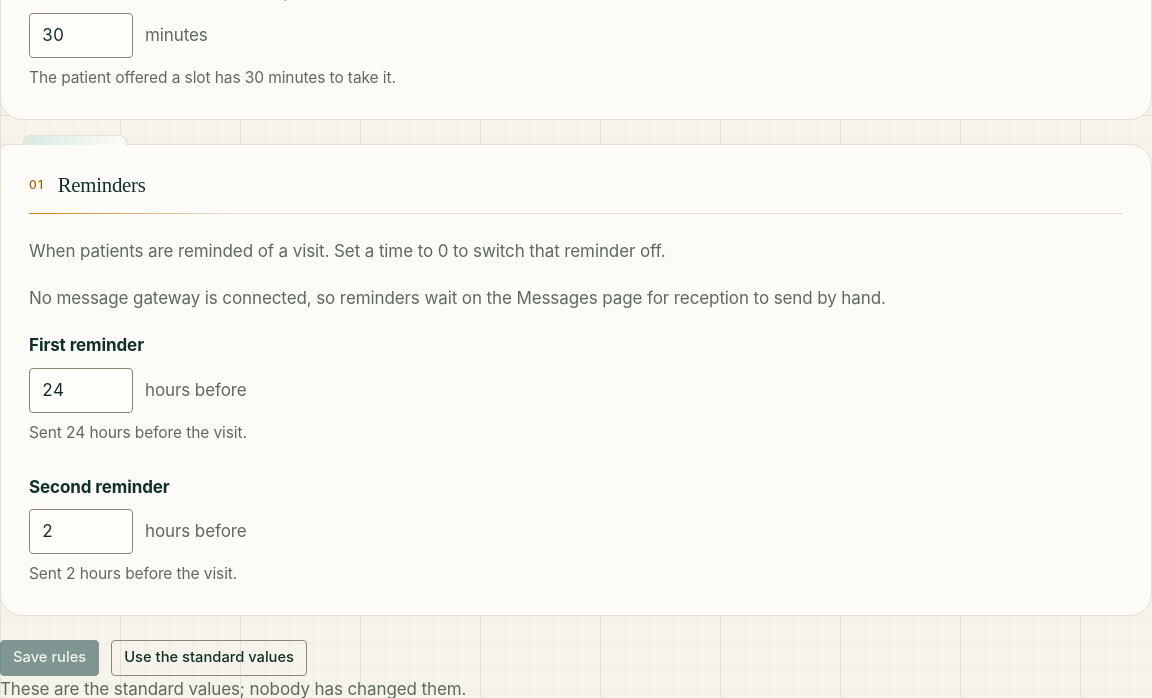
Test case: the clinic's rules › offers the standard values back
The image size is (1152, 698).
(page scrolled)
What coordinates should you click on to do the following:
click the button "Use the standard values"
I would click on:
 (209, 658)
Its box is top-left (111, 640), bottom-right (307, 676).
(page scrolled)
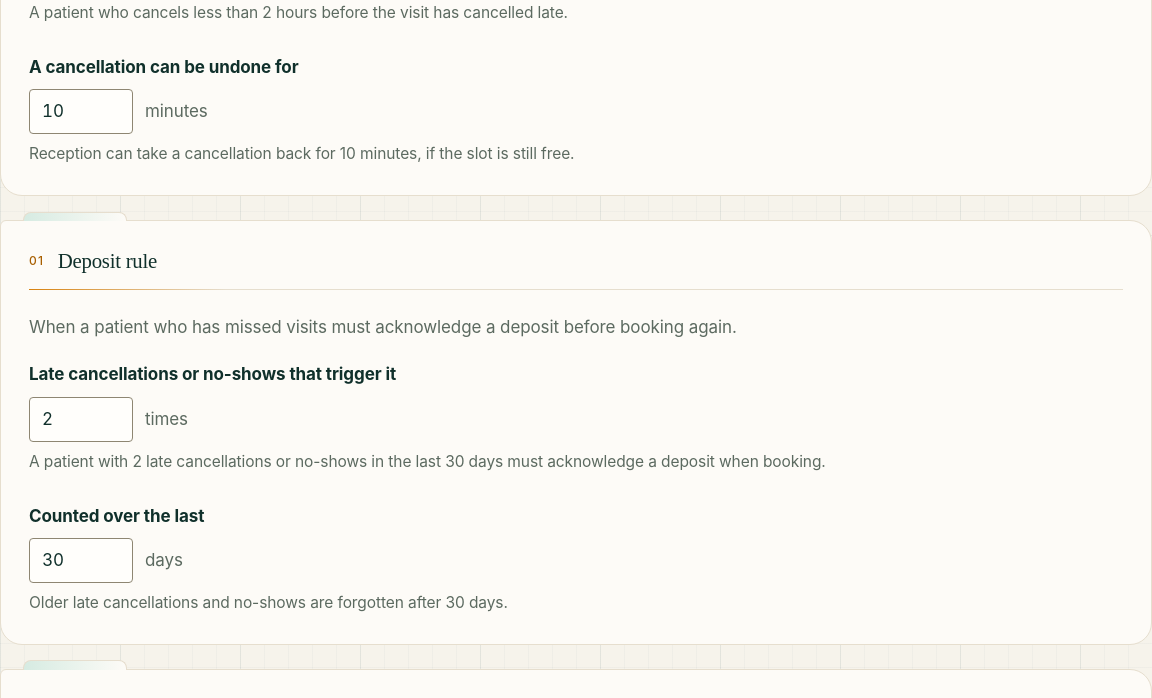
Expected: the number field labelled "Late cancellations or no-shows that trigger it times" holds "2", top-left (29, 396), bottom-right (133, 442)
